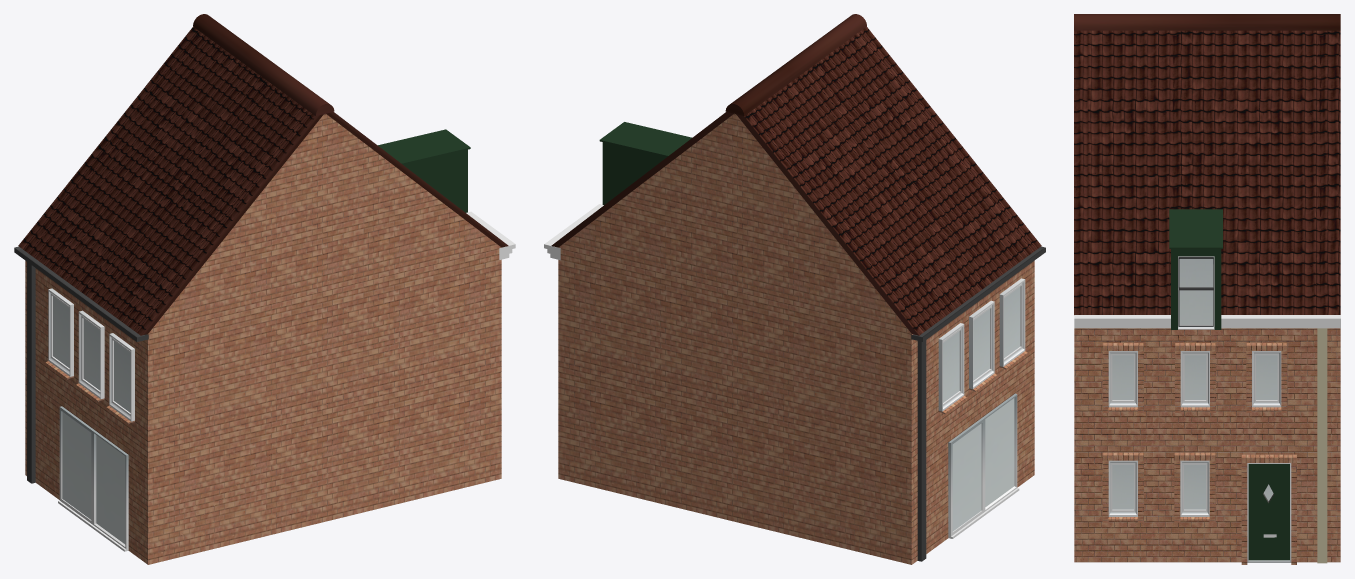
Rendered from It_Bynt_14.fbx.
3 views of the same model, side by side, from view 1: azimuth 30°, elevation 25°; view 2: azimuth 150°, elevation 25°; view 3: azimuth 270°, elevation 25° (orthographic). The views are drawn at different scales.
Visible parts, largest first — view 1: It_Bynt_14; view 2: It_Bynt_14; view 3: It_Bynt_14.
Boxes of the visible parts, x1,y1,x2,y2 form: It_Bynt_14: (14,14,515,564); It_Bynt_14: (544,14,1045,564); It_Bynt_14: (1074,14,1340,564).
Bounding box in the file's own units: 1016 × 1071 × 571.
